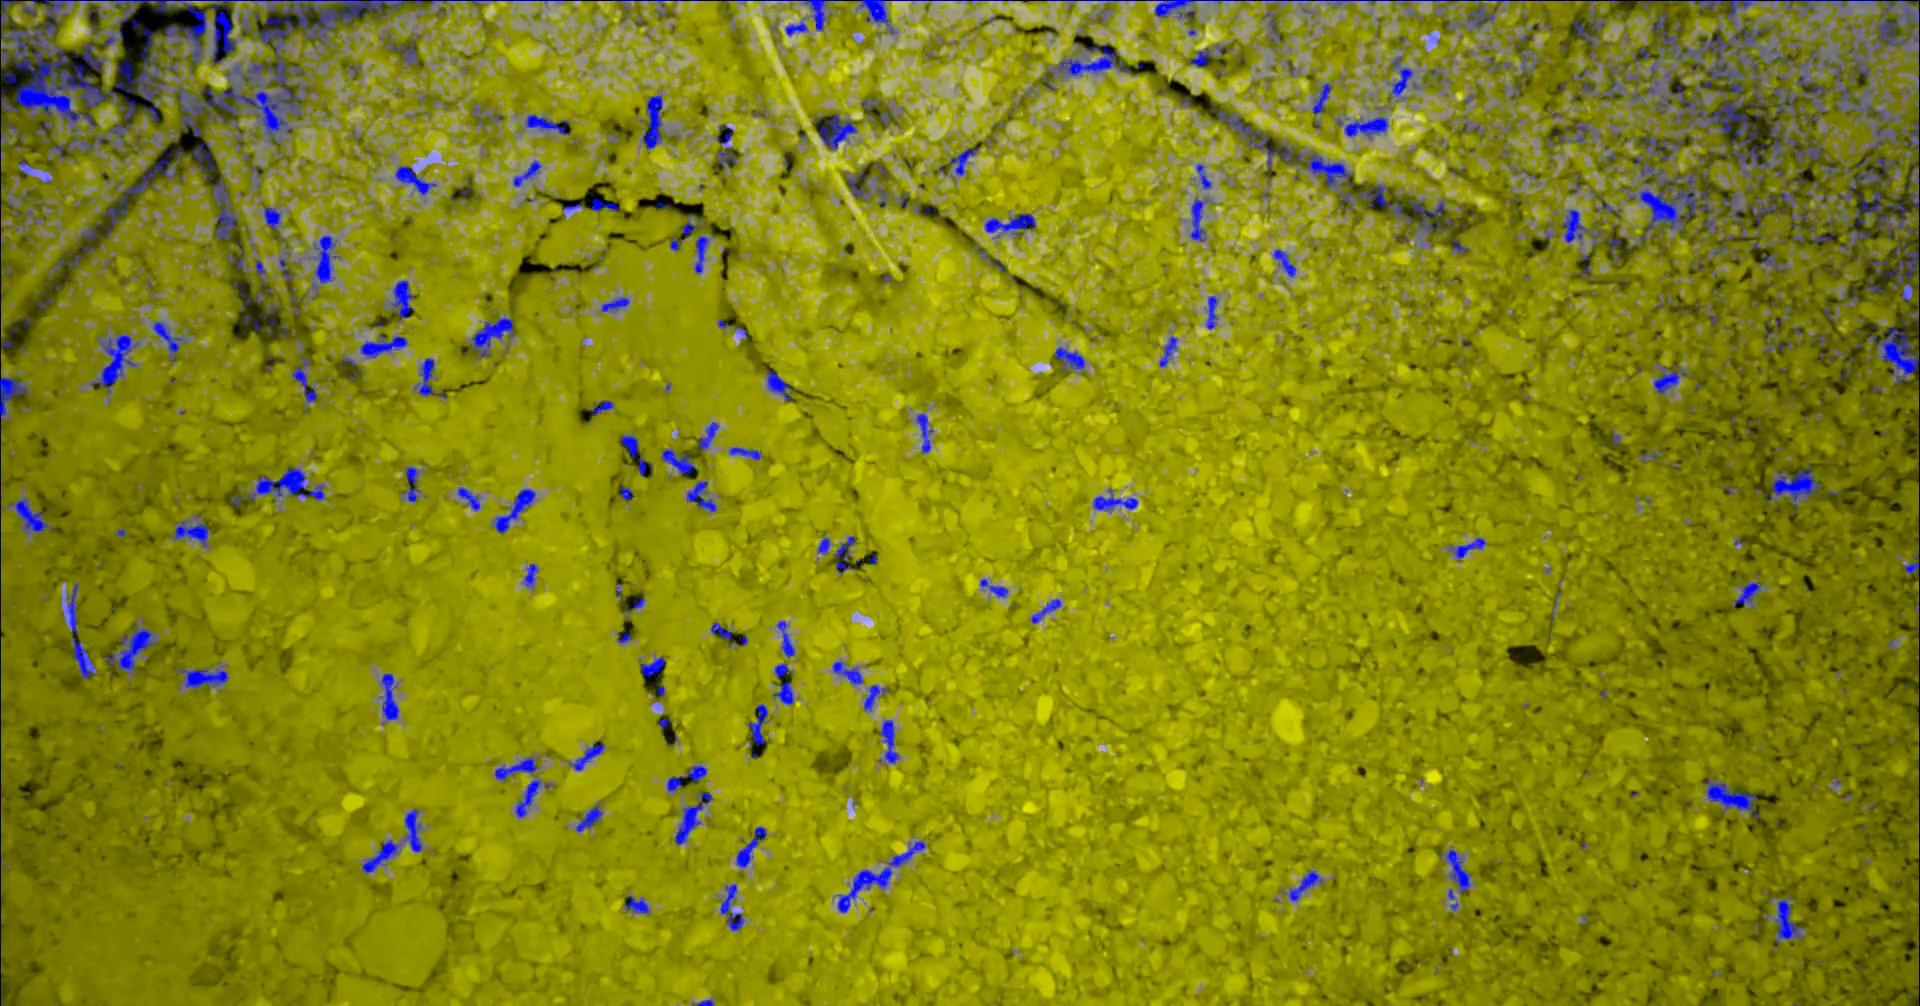ant: (102, 147, 182, 236), (856, 0, 1013, 25), (62, 582, 95, 678), (1396, 0, 1512, 27), (1869, 239, 1919, 300), (1763, 465, 1821, 513), (91, 334, 138, 391), (1636, 0, 1757, 22), (761, 0, 843, 30), (104, 622, 155, 672), (1057, 43, 1130, 75), (1145, 0, 1253, 22), (1704, 777, 1759, 817), (1357, 184, 1411, 224), (674, 791, 712, 843), (491, 488, 535, 533), (1408, 198, 1463, 232), (470, 316, 513, 357), (0, 376, 29, 433), (9, 495, 51, 533), (815, 112, 856, 149), (1773, 895, 1801, 948), (514, 779, 552, 817), (1437, 848, 1470, 892), (413, 357, 446, 398), (620, 434, 651, 476), (361, 840, 400, 873), (394, 165, 436, 196), (735, 826, 766, 868), (312, 235, 338, 283), (291, 356, 317, 401), (1284, 869, 1321, 901), (1573, 19, 1604, 57), (105, 99, 135, 138), (152, 321, 182, 361), (720, 884, 744, 930), (1639, 135, 1683, 160), (641, 95, 662, 149), (665, 765, 706, 791), (568, 741, 604, 770), (173, 520, 212, 546), (984, 213, 1035, 234), (390, 279, 414, 321), (1558, 210, 1589, 243), (179, 668, 229, 688), (1653, 365, 1688, 394), (1390, 55, 1412, 100), (361, 335, 406, 357), (494, 756, 537, 779), (1092, 489, 1137, 511), (877, 719, 899, 763), (745, 702, 768, 744), (686, 480, 716, 511), (1796, 74, 1827, 103), (1343, 116, 1388, 136), (710, 622, 747, 647), (1749, 193, 1777, 225), (378, 673, 397, 719), (949, 146, 978, 175), (716, 124, 737, 166), (1189, 197, 1208, 241), (263, 206, 286, 243), (662, 448, 695, 474), (1629, 156, 1663, 180), (524, 114, 568, 133), (0, 239, 13, 304), (403, 808, 422, 851), (766, 370, 792, 400), (1600, 65, 1623, 99), (1450, 537, 1484, 560), (512, 159, 541, 185), (1054, 345, 1084, 371), (773, 663, 792, 704), (834, 536, 855, 573), (1903, 526, 1919, 574), (1030, 598, 1060, 622), (832, 661, 863, 683), (916, 413, 933, 453), (575, 804, 602, 831), (389, 39, 417, 65), (81, 222, 102, 257), (1721, 192, 1742, 224), (1903, 111, 1919, 155), (1595, 193, 1622, 218), (1733, 582, 1761, 606), (863, 683, 888, 711), (847, 169, 869, 199), (776, 620, 794, 655), (1272, 249, 1295, 276), (1312, 83, 1331, 114), (697, 420, 717, 448), (403, 466, 419, 500), (611, 0, 683, 8), (639, 655, 664, 677), (1159, 335, 1177, 366), (695, 235, 709, 273), (457, 486, 479, 511), (81, 135, 110, 152), (53, 254, 83, 272), (979, 578, 1007, 596), (239, 291, 263, 311), (226, 239, 243, 268), (340, 357, 361, 380), (1870, 124, 1890, 149), (623, 895, 649, 913), (262, 305, 277, 334), (1760, 254, 1787, 271), (589, 197, 618, 211), (599, 297, 629, 311), (728, 446, 759, 459), (1205, 295, 1217, 329), (1737, 56, 1757, 75), (1196, 164, 1211, 189), (1189, 48, 1210, 66), (1572, 119, 1589, 142), (1763, 338, 1789, 352), (589, 400, 613, 415), (522, 563, 537, 587), (1907, 293, 1919, 325), (1851, 60, 1869, 80), (278, 258, 295, 279), (1576, 254, 1591, 277), (1865, 102, 1884, 119), (243, 315, 263, 332), (1260, 0, 1390, 3), (785, 22, 808, 36), (254, 259, 265, 286), (871, 161, 888, 179), (1865, 278, 1884, 293), (143, 103, 159, 121), (1269, 19, 1281, 39), (1780, 188, 1796, 205), (1606, 236, 1622, 253), (1451, 238, 1468, 253), (861, 97, 879, 111), (1909, 160, 1919, 184), (18, 160, 34, 174), (681, 221, 695, 238), (1909, 191, 1919, 212), (1812, 232, 1834, 243), (1655, 95, 1669, 111), (1337, 192, 1351, 207), (1703, 218, 1717, 234), (618, 486, 632, 500), (1810, 333, 1825, 345), (817, 537, 829, 553), (0, 337, 13, 351), (88, 8, 100, 20), (669, 238, 681, 250), (617, 633, 630, 643), (1917, 909, 1919, 965)
